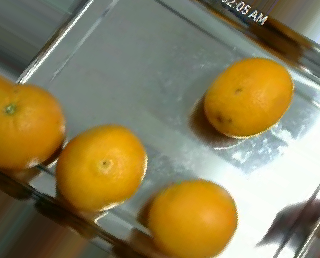Orange: (55, 123, 148, 212), (203, 56, 294, 138), (148, 177, 239, 258)
